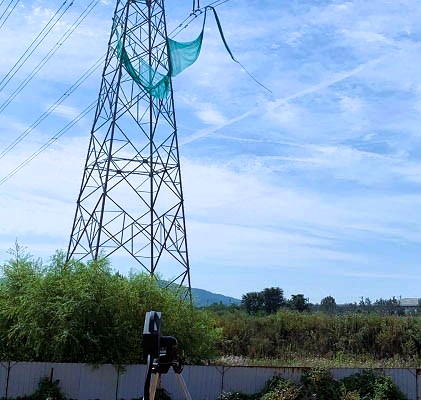wire foreign body: (111, 20, 216, 108)
